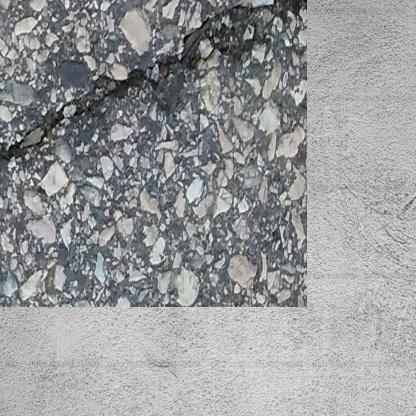Cracks: (0, 0, 284, 151)
